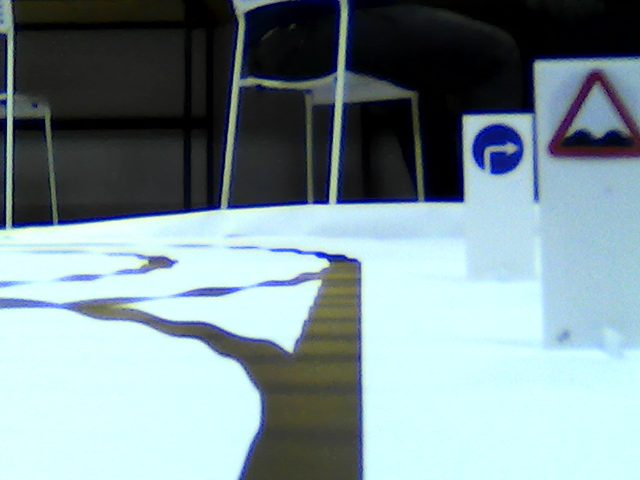Nerov: (548, 69, 640, 163)
Right: (472, 124, 526, 176)
